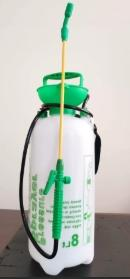PULVERISATEUR: (7, 0, 108, 279)
